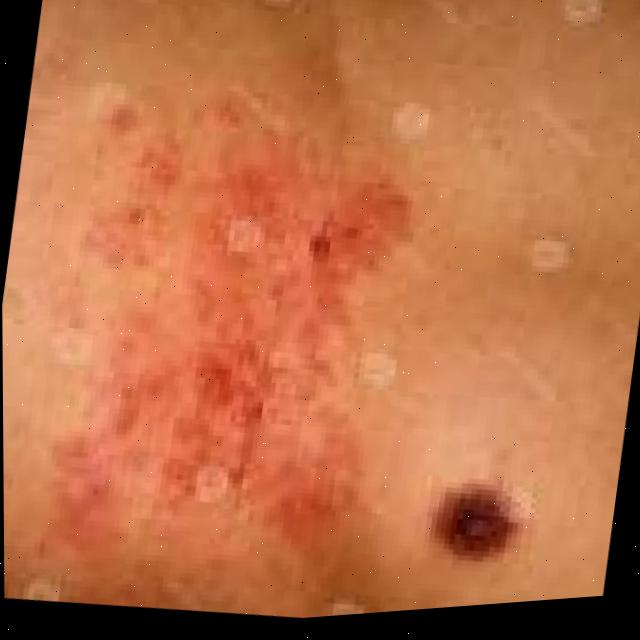Shingles: (65, 116, 404, 534)
